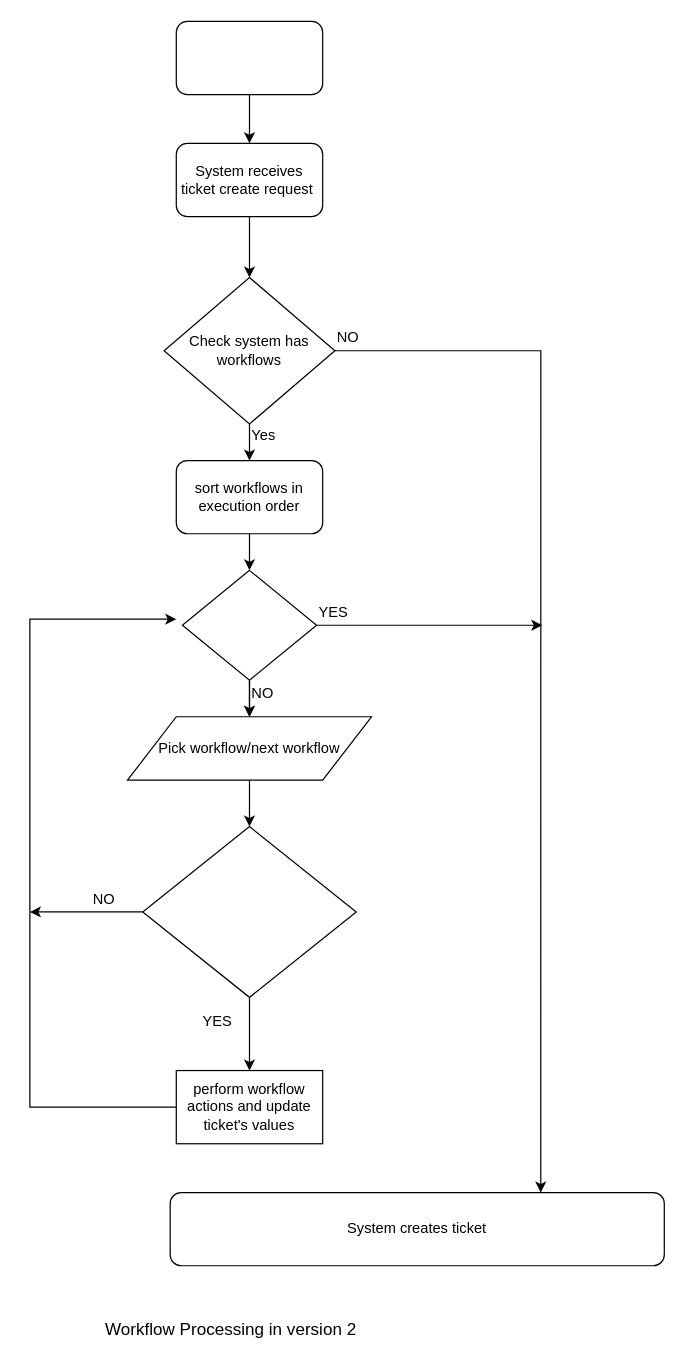
Image size: 686x1362. Some labels were removed from this diagram. The shapes that lost their labels are listed below. From the top down, each one's box as (x1, y1, x2, y2) in pixels, then its label:
(175, 20, 323, 95): User raises ticket
(181, 569, 317, 680): Checked all workflows
(142, 825, 356, 997): Ticket satisfies workflow conditions
